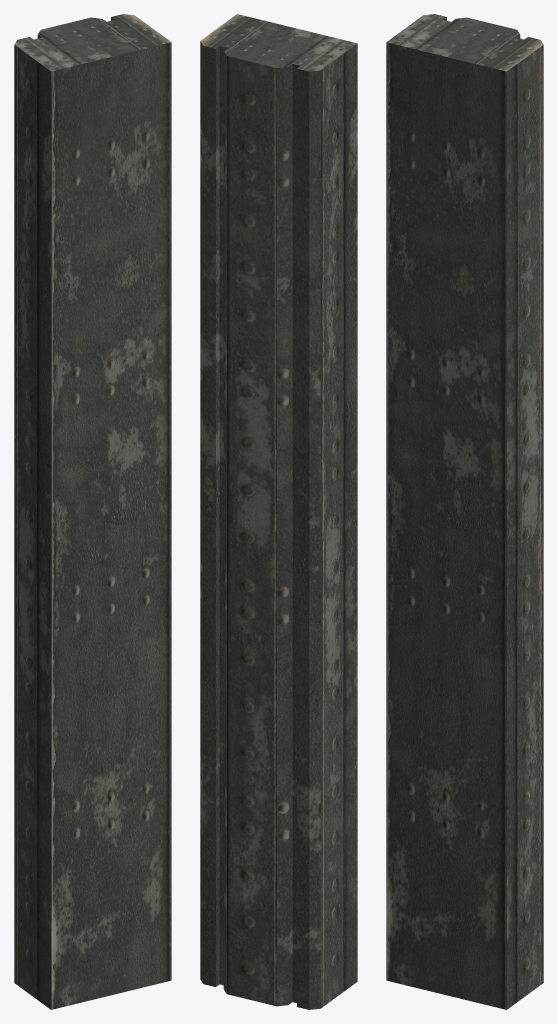
Rendered from Kit_IronColumn.fbx.
3 renders of one model, left to right at view 1: azimuth 30°, elevation 25°; view 2: azimuth 150°, elevation 25°; view 3: azimuth 330°, elevation 25°, orthographic.
Visible parts, largest first — view 1: Kit_IronColumn; view 2: Kit_IronColumn; view 3: Kit_IronColumn.
Boxes of the visible parts, x1=… form: Kit_IronColumn: x1=14, y1=14, x2=171, y2=1009; Kit_IronColumn: x1=200, y1=14, x2=357, y2=1009; Kit_IronColumn: x1=386, y1=14, x2=543, y2=1009.
Size of the model in its own units: 21.15 by 157 by 13.85.
